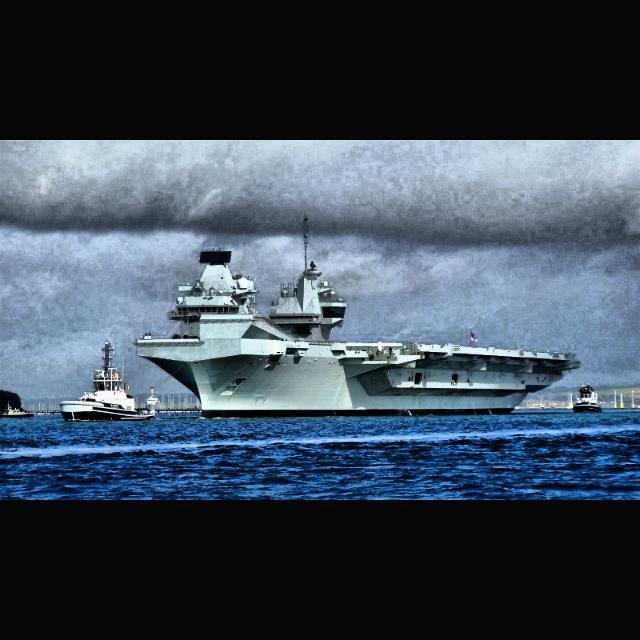combat_vessel: (136, 248, 578, 420)
patrol_vessel: (58, 363, 156, 422), (569, 380, 605, 414)
